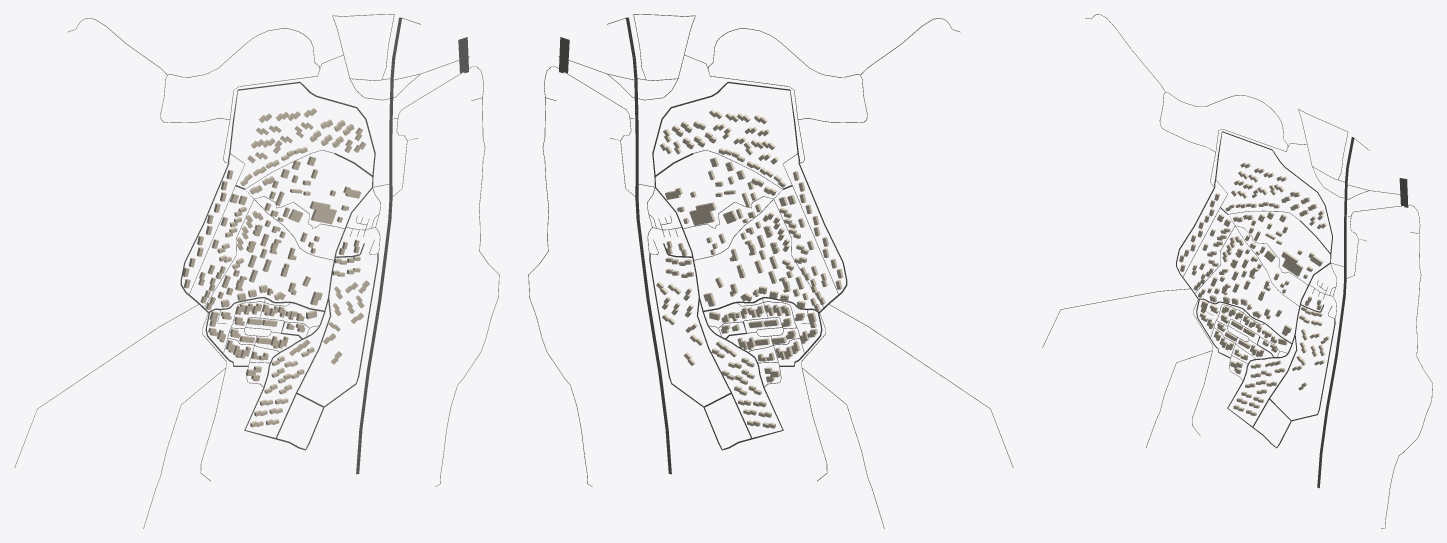
The model's file is historic-palestine-07_29_3490_3236.glb.
3 renders of one model, left to right at view 1: azimuth 30°, elevation 25°; view 2: azimuth 150°, elevation 25°; view 3: azimuth 330°, elevation 25°, orthographic. The views are drawn at different scales.
Visible parts, largest first — view 1: Road 5700.001, Road .009; view 2: Road 5700.001, Road .009; view 3: Road 5700.001, Road .009.
Part boxes in pixels (box(x1,y1,x2,y2)): Road 5700.001: box(356, 110, 392, 474); Road .009: box(180, 81, 375, 438); Road 5700.001: box(635, 110, 671, 474); Road .009: box(652, 81, 847, 438); Road 5700.001: box(1317, 208, 1346, 488); Road .009: box(1176, 131, 1332, 427).
Bounding box in the file's own units: 1193 × 1302 × 8.7.
